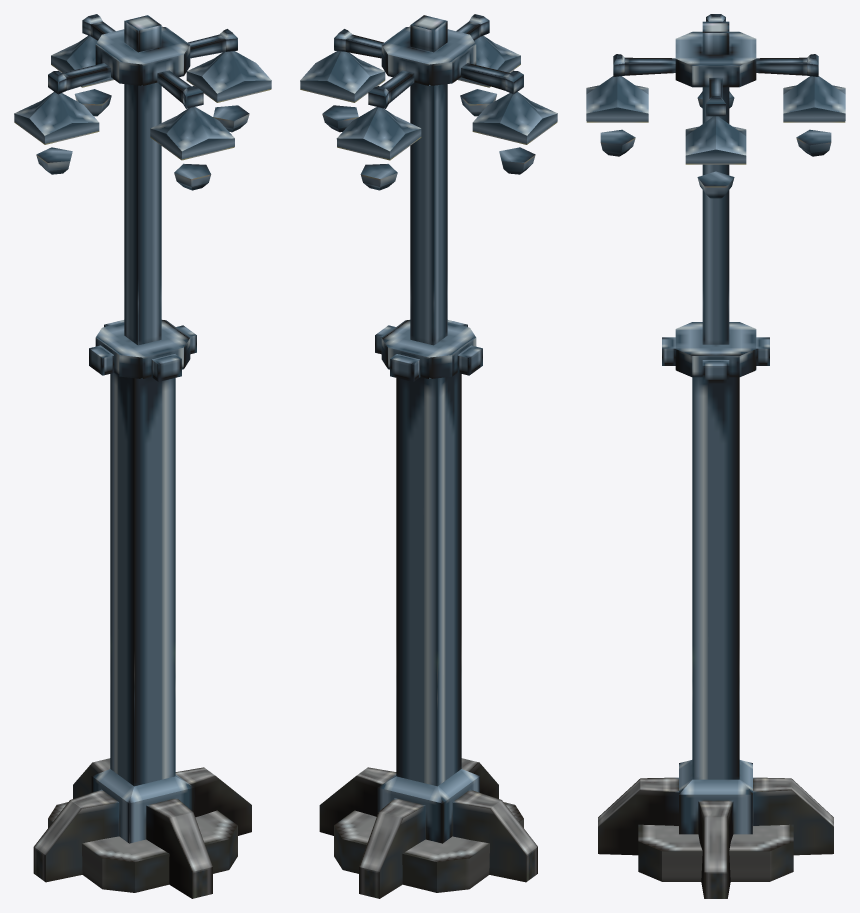
File: Poly_Light_Pole_01.obj
3 views of the same model, side by side, from view 1: azimuth 30°, elevation 25°; view 2: azimuth 150°, elevation 25°; view 3: azimuth 270°, elevation 25° (orthographic).
Parts seen in each view (by area): view 1: Light_Pole_Cube.001, Light_Pole_Cube, Top_light_Cube.005, Cube.004_Cube.006, Cube_Cube.002, Cube_Cube.001, Top_light_Cube.003, Top_light_Cube.004, Icosphere.002, Icosphere.001, Top_light_Cube.002, Top_light_Cube.008 (+1 smaller); view 2: Light_Pole_Cube.001, Light_Pole_Cube, Top_light_Cube.005, Cube.004_Cube.006, Cube_Cube.002, Cube_Cube.001, Top_light_Cube.003, Top_light_Cube.004, Icosphere.002, Icosphere.001, Top_light_Cube.002, Top_light_Cube.008 (+1 smaller); view 3: Light_Pole_Cube.001, Light_Pole_Cube, Top_light_Cube.005, Cube.004_Cube.006, Cube_Cube.001, Cube_Cube.002, Top_light_Cube.004, Icosphere.001, Top_light_Cube.002, Icosphere.002, Top_light_Cube.007, Top_light_Cube.003 (+1 smaller).
Boxes of the visible parts, box(x1,y1,x2,y2) form: Light_Pole_Cube.001: box(91, 82, 193, 843); Light_Pole_Cube: box(33, 758, 251, 898); Top_light_Cube.005: box(95, 26, 190, 379); Cube.004_Cube.006: box(48, 802, 237, 892); Cube_Cube.002: box(14, 51, 271, 144); Cube_Cube.001: box(51, 35, 234, 160); Top_light_Cube.003: box(48, 29, 237, 94); Top_light_Cube.004: box(82, 14, 203, 108); Icosphere.002: box(36, 105, 249, 174); Icosphere.001: box(74, 89, 211, 190); Top_light_Cube.002: box(124, 15, 161, 52); Top_light_Cube.008: box(89, 325, 196, 375); Light_Pole_Cube.001: box(377, 82, 479, 843); Light_Pole_Cube: box(319, 758, 537, 898); Top_light_Cube.005: box(381, 26, 476, 379); Cube.004_Cube.006: box(334, 802, 523, 892); Cube_Cube.002: box(300, 51, 557, 144); Cube_Cube.001: box(336, 35, 520, 160); Top_light_Cube.003: box(334, 29, 523, 94); Top_light_Cube.004: box(368, 14, 489, 108); Icosphere.002: box(322, 105, 535, 174); Icosphere.001: box(360, 89, 496, 190); Top_light_Cube.002: box(410, 15, 447, 52); Top_light_Cube.008: box(375, 325, 482, 375); Light_Pole_Cube.001: box(679, 87, 752, 834); Light_Pole_Cube: box(598, 777, 833, 898); Top_light_Cube.005: box(675, 31, 756, 377); Cube.004_Cube.006: box(638, 824, 793, 881); Cube_Cube.001: box(586, 76, 845, 122); Cube_Cube.002: box(685, 116, 746, 164); Top_light_Cube.004: box(613, 54, 818, 76); Icosphere.001: box(600, 129, 831, 156); Top_light_Cube.002: box(702, 21, 729, 54); Icosphere.002: box(697, 91, 734, 198); Top_light_Cube.007: box(662, 337, 769, 365); Top_light_Cube.003: box(706, 14, 725, 116).
Bounding box in the file's own units: 0.7702 × 2.69 × 0.7702.
Materials: 1 (1 with a texture image).
